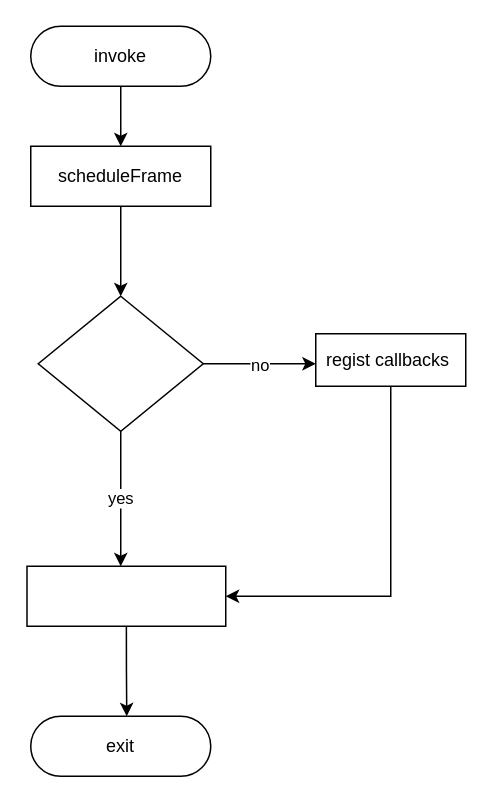
Some shapes in this 492 by 803 pixel diagram are drawn without their labels. The centre of each missing label's shape, as x and y in pixels:
"ensure Frame Callbacks Registered" goes at point (120, 363).
"window.scheduleFrame" goes at point (126, 595).
